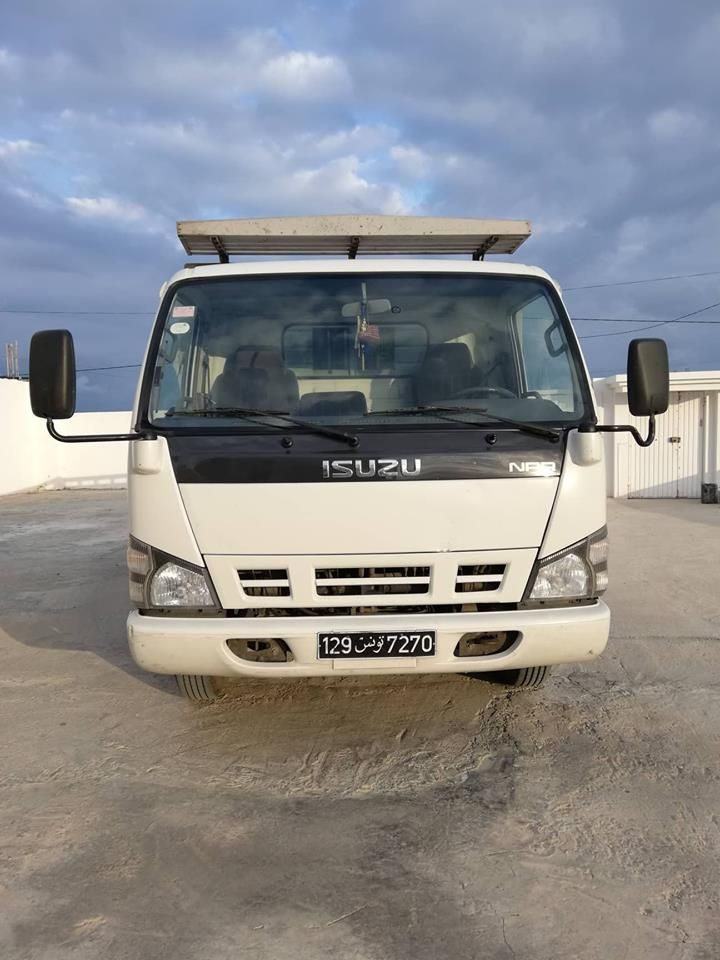LP: (317, 631, 438, 659)
